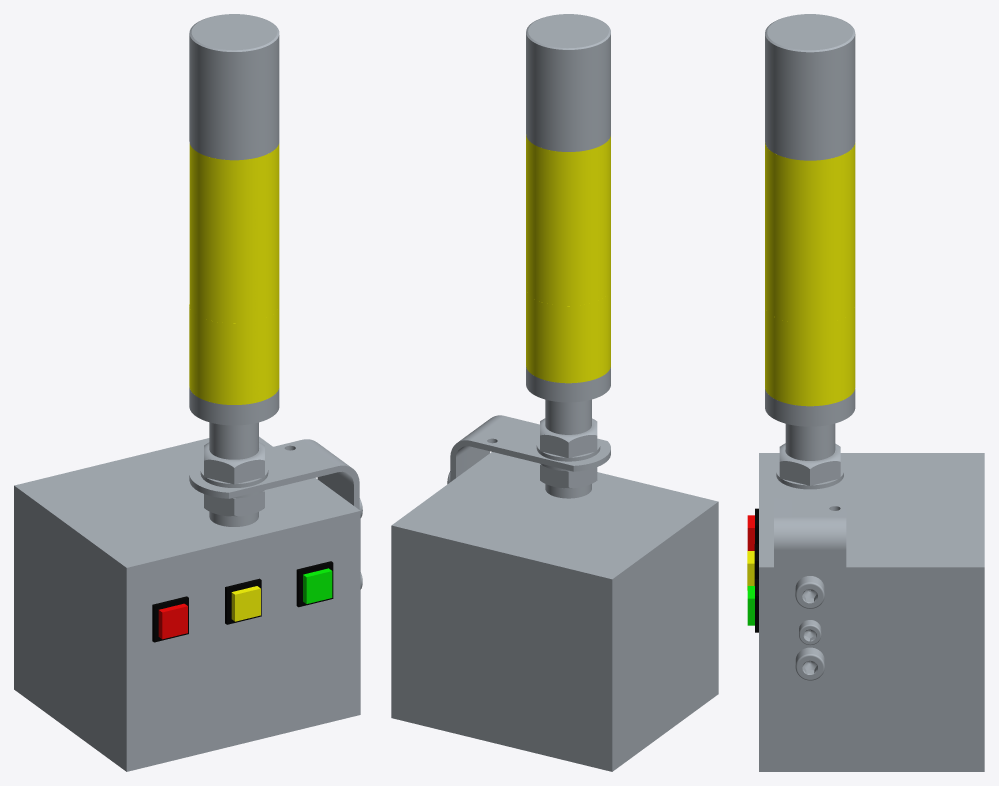
File: button_patlight.glb
3 views of the same model, side by side, from view 1: azimuth 30°, elevation 25°; view 2: azimuth 150°, elevation 25°; view 3: azimuth 270°, elevation 25° (orthographic). The views are drawn at different scales.
Visible parts, largest first — view 1: Body, LR4(04)-01, LED Unit, LED Unit002, LED Unit001, SZL-001, 円柱, Pole Bracket, M22 Nut2, M22 Nut1, A3SA_5601, A3SA_5600 (+2 smaller); view 2: Body, LR4(04)-01, LED Unit001, LED Unit, LED Unit002, SZL-001, 円柱, Pole Bracket, M22 Nut2, M22 Nut1; view 3: Body, SZL-001, LR4(04)-01, LED Unit002, LED Unit, LED Unit001, Pole Bracket, 円柱, M22 Nut2, M8x10-Screw001, M8x10-Screw, M6x8-Screw (+1 smaller).
Boxes of the visible parts, x1,y1,x2,y2 form: Body: (14,436,360,771); LR4(04)-01: (189,14,279,160); LED Unit: (189,225,279,323); LED Unit002: (189,143,279,241); LED Unit001: (189,304,279,404); SZL-001: (189,439,359,509); 円柱: (209,422,258,526); Pole Bracket: (189,387,279,425); M22 Nut2: (204,442,264,484); M22 Nut1: (204,490,264,516); A3SA_5601: (231,586,260,621); A3SA_5600: (158,603,187,639); Body: (391,452,718,771); LR4(04)-01: (526,14,610,151); LED Unit001: (526,290,610,383); LED Unit: (526,212,610,306); LED Unit002: (526,135,610,228); SZL-001: (450,415,610,481); 円柱: (545,399,591,498); Pole Bracket: (526,366,610,402); M22 Nut2: (540,418,597,458); M22 Nut1: (540,464,597,488); Body: (759,453,984,771); SZL-001: (774,461,846,691); LR4(04)-01: (765,14,855,160); LED Unit002: (765,143,855,242); LED Unit: (765,225,855,324); LED Unit001: (765,307,855,406); Pole Bracket: (765,388,855,426); 円柱: (785,423,835,460); M22 Nut2: (779,443,840,485); M8x10-Screw001: (795,647,824,680); M8x10-Screw: (795,576,824,608); M6x8-Screw: (799,620,821,645).
Size of the model in its own units: 0.1308 by 0.3375 by 0.1051.
